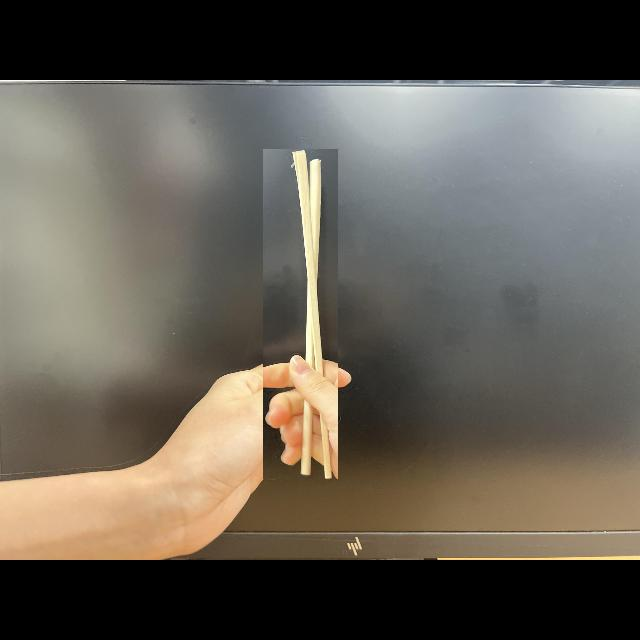stick: (263, 149, 337, 479)
